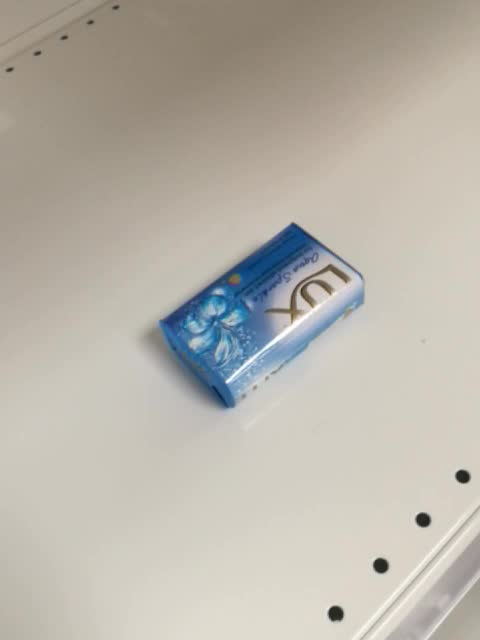soap: (156, 221, 365, 411)
